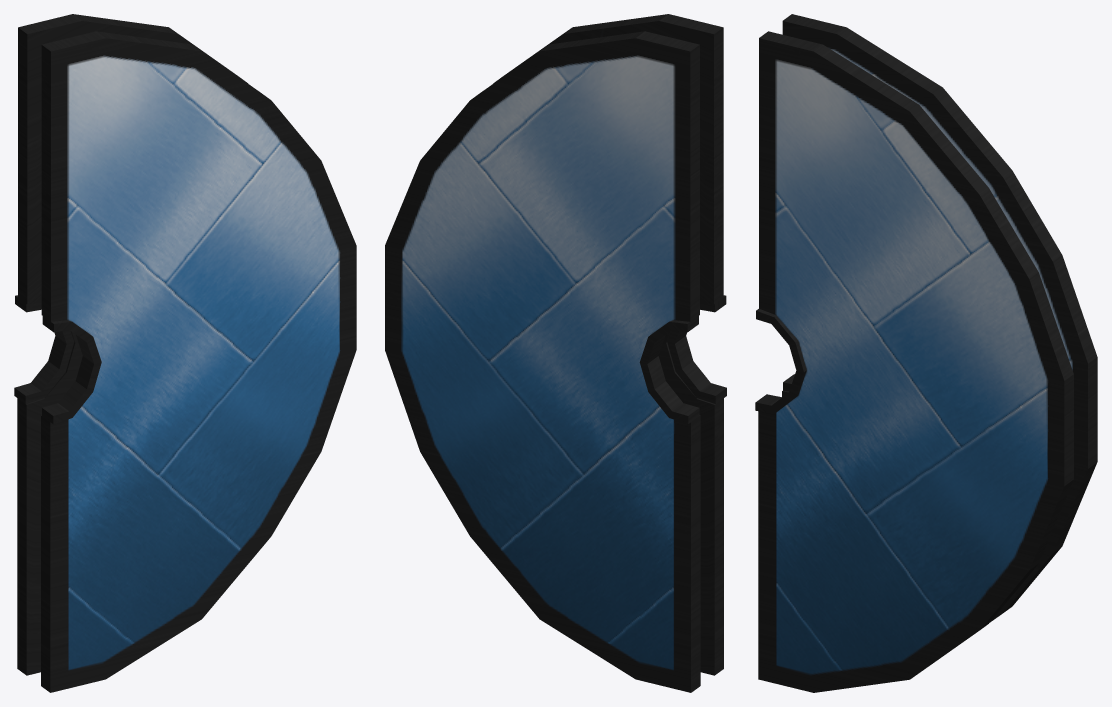
Rendered from portas.FBX.
3 renders of one model, left to right at view 1: azimuth 30°, elevation 25°; view 2: azimuth 150°, elevation 25°; view 3: azimuth 330°, elevation 25°, orthographic.
Visible parts, largest first — view 1: Porta 1.2; view 2: Porta 1.2; view 3: Porta 1.2.
Part boxes in pixels (x1=…): Porta 1.2: x1=14, y1=14, x2=356, y2=692; Porta 1.2: x1=385, y1=14, x2=726, y2=692; Porta 1.2: x1=755, y1=14, x2=1097, y2=692.
Size of the model in its own units: 616 by 1234 by 135.
1 material, 1 textured.
